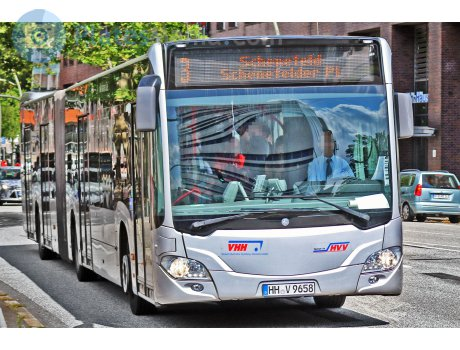License Plates: (270, 283, 312, 289)
